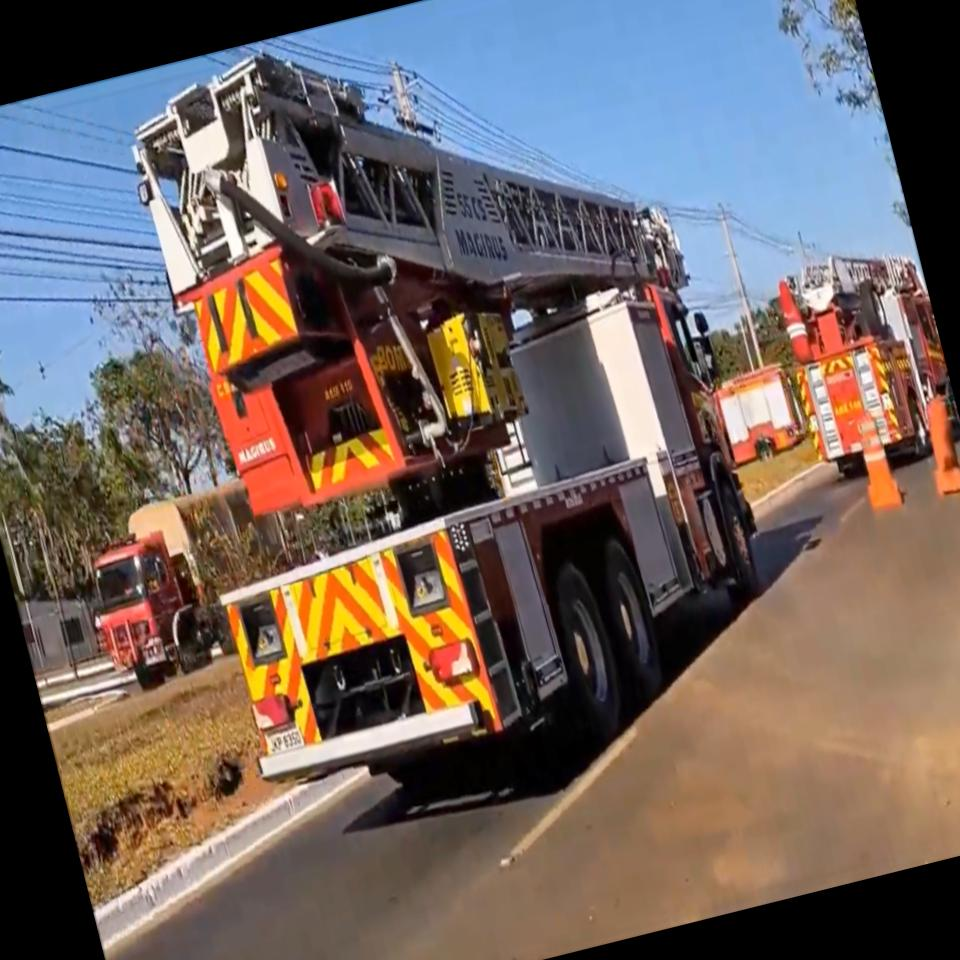viatura: (89, 0, 799, 818)
